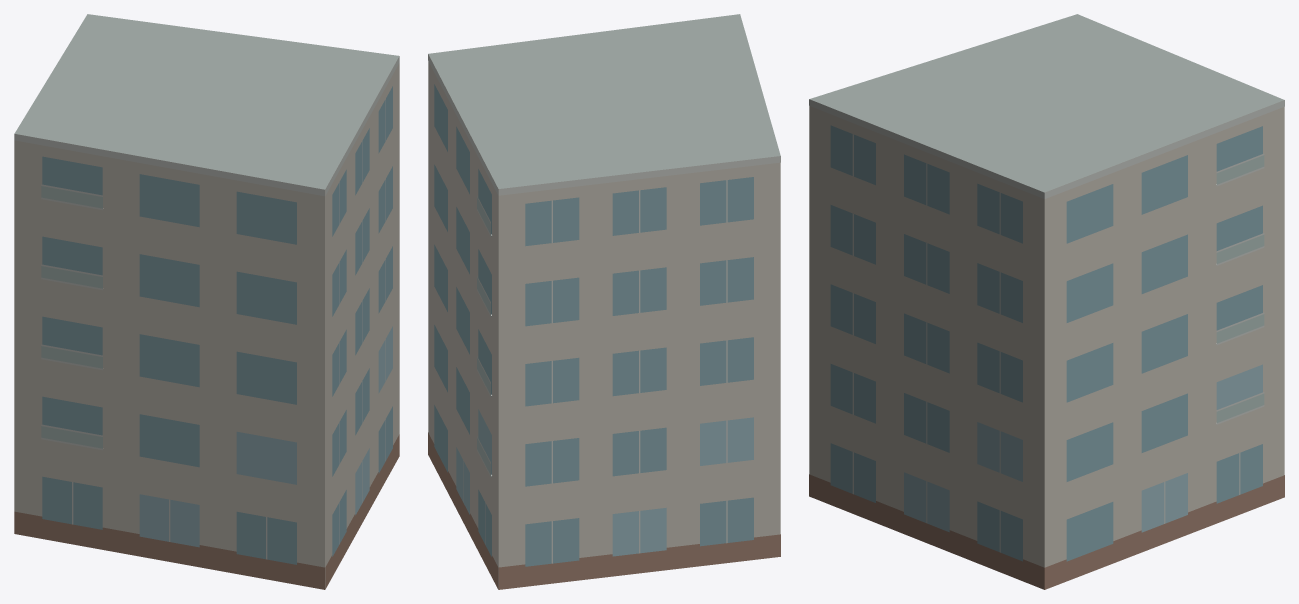
The model's file is survey-upis-32686905.glb.
3 views of the same model, side by side, from view 1: azimuth 30°, elevation 25°; view 2: azimuth 150°, elevation 25°; view 3: azimuth 270°, elevation 25° (orthographic).
Parts seen in each view (by area): view 1: survey-upis-32686905.tmp; view 2: survey-upis-32686905.tmp; view 3: survey-upis-32686905.tmp.
Boxes of the visible parts, <box> form: survey-upis-32686905.tmp: <box>14,14,399,589</box>; survey-upis-32686905.tmp: <box>428,14,780,589</box>; survey-upis-32686905.tmp: <box>809,14,1284,589</box>.
Size of the model in its own units: 14.18 by 14.7 by 15.95.
